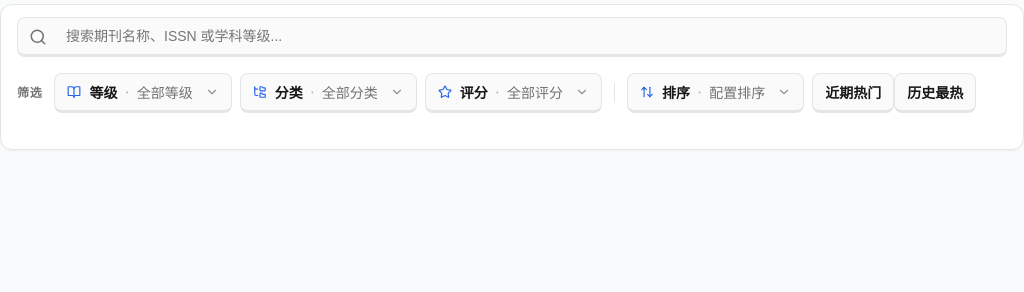
Test: SearchAndFilter › Category Filter › should open cascaded category dropdown when clicked
The width and height of the screenshot is (1024, 292).
Step 1. Click the text "全部分类" → (350, 92), box [322,82,378,102]
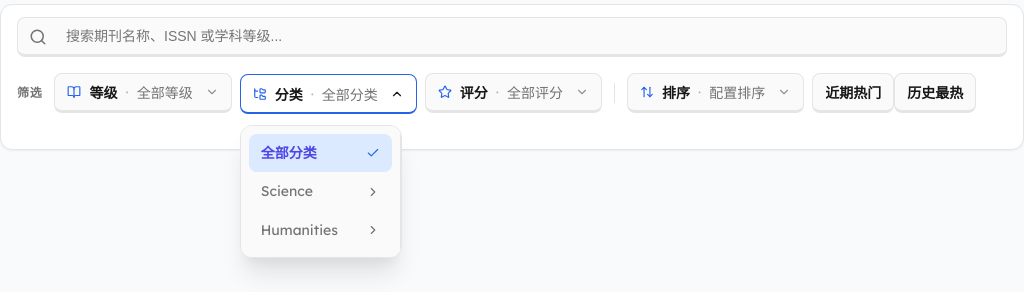
Result: the text "Science" is shown at [261,180,313,203]
Result: the text "Humanities" is shown at [261,219,338,241]
